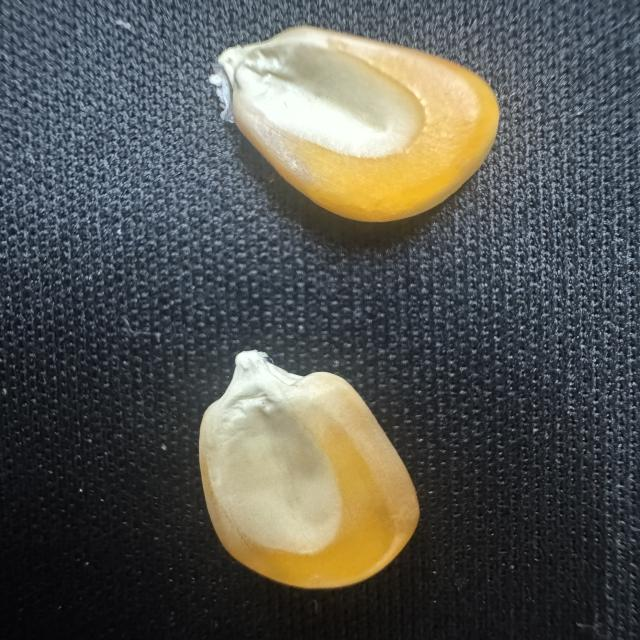Good-Seed: (206, 20, 509, 232), (182, 339, 430, 593)
